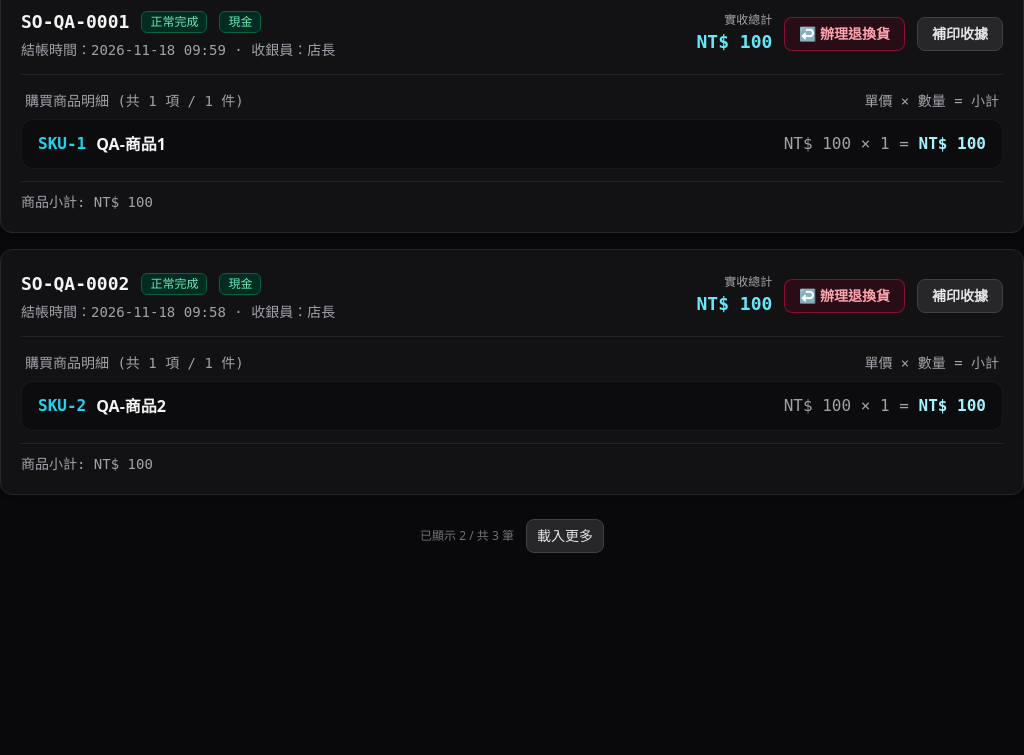
Test: CustomerHistoryTab › loads one page for the member and appends the next page with 載入更多
Expected: the text "SO-QA-0001" is shown, [21,8,129,36]
Expected: the text "已顯示 2 / 共 3 筆" is shown, [420,528,514,544]
Click the button "載入更多" at (565, 536), box [526,519,604,553]
(page scrolled)
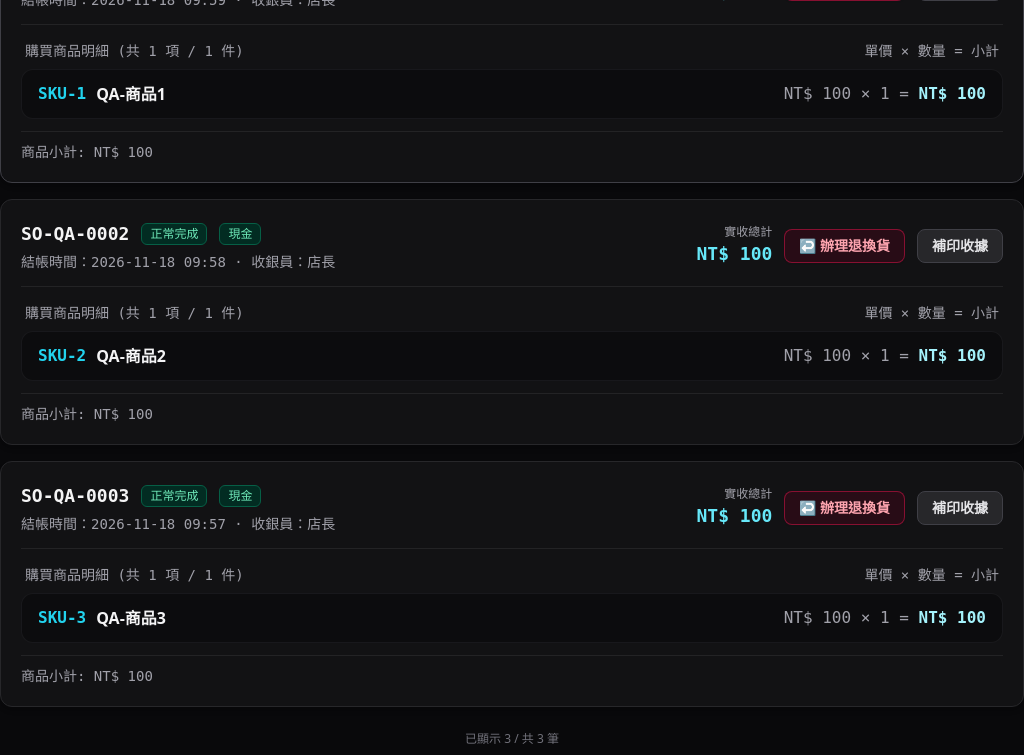
Expected: the text "SO-QA-0003" is shown, [21,482,129,510]
Expected: the text "SO-QA-0002" is shown once, [21,220,129,248]
Expected: the text "已顯示 3 / 共 3 筆" is shown, [465,731,559,747]
